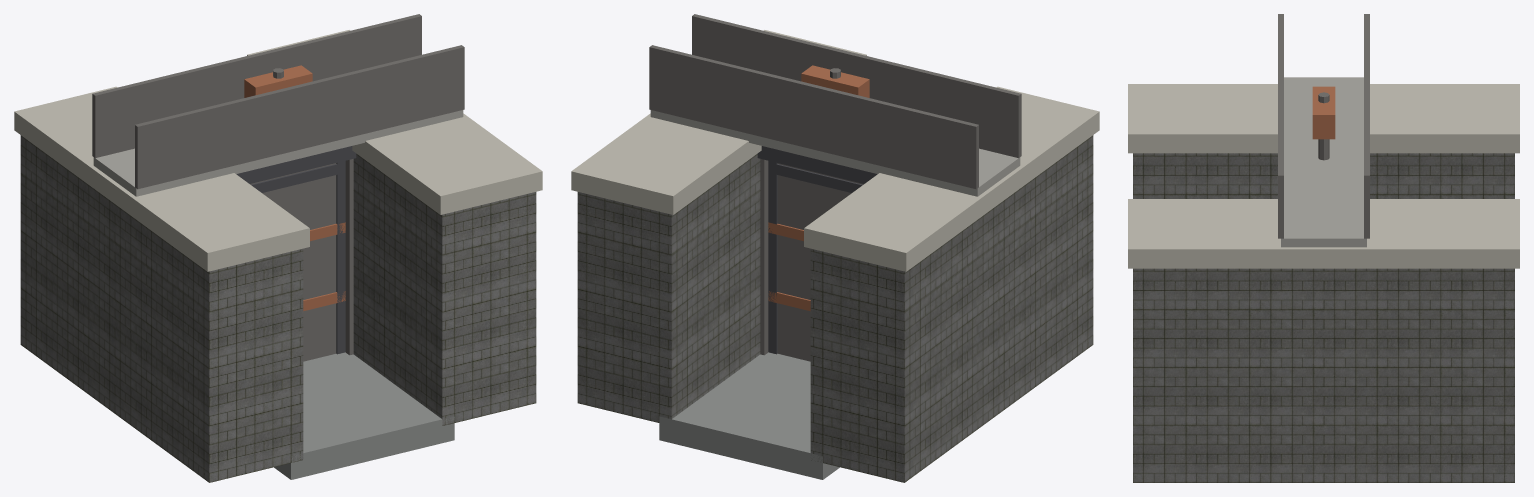
The model's file is env_sluice_gauge.glb.
The picture shows the model from 3 angles, left to right: view 1: azimuth 30°, elevation 25°; view 2: azimuth 150°, elevation 25°; view 3: azimuth 270°, elevation 25°; orthographic projection.
Visible parts, largest first — view 1: sluice_frame, sluice_gate; view 2: sluice_frame, sluice_gate; view 3: sluice_frame.
Boxes of the visible parts, <box> form: sluice_frame: <box>14,14,542,482</box>; sluice_gate: <box>250,160,345,361</box>; sluice_frame: <box>571,14,1099,482</box>; sluice_gate: <box>768,160,863,361</box>; sluice_frame: <box>1128,14,1519,482</box>.
Bounding box in the file's own units: 4.1 × 3.75 × 4.1.
8 materials, 1 textured.
